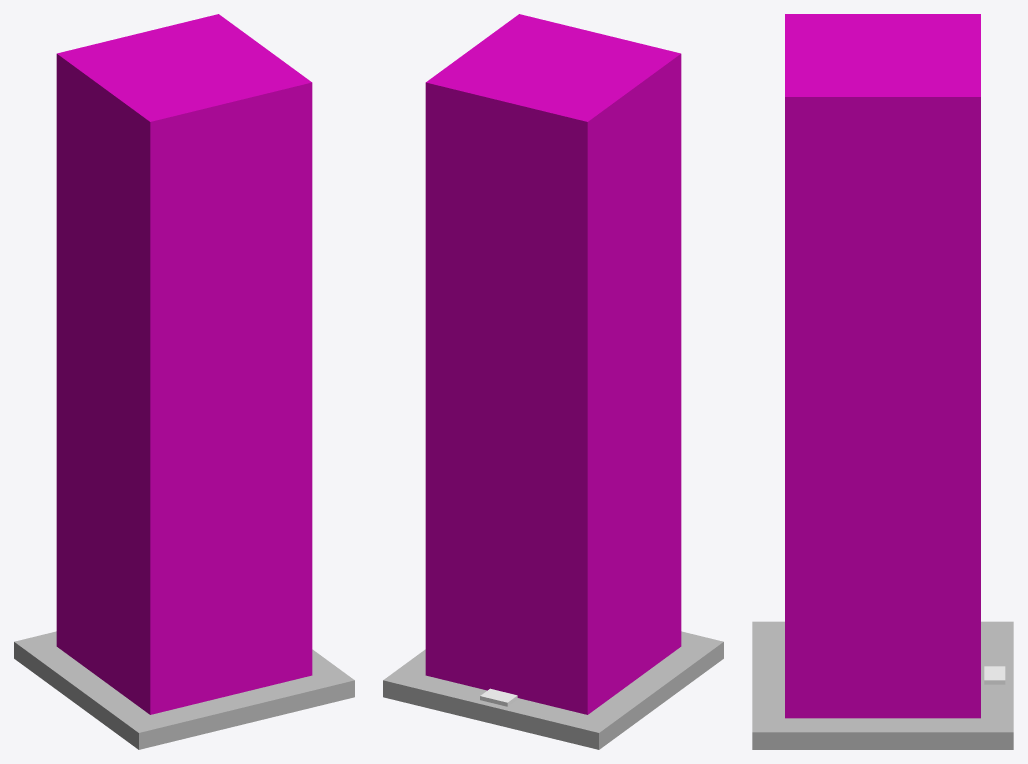
File: building1(3).fbx
3 renders of one model, left to right at view 1: azimuth 30°, elevation 25°; view 2: azimuth 150°, elevation 25°; view 3: azimuth 270°, elevation 25°, orthographic. The views are drawn at different scales.
Parts seen in each view (by area): view 1: Empty_Tile.002, Empty_Tile.001; view 2: Empty_Tile.002, Empty_Tile.001; view 3: Empty_Tile.002, Empty_Tile.001.
Part boxes in pixels (<box>): Empty_Tile.002: <box>56,14,312,714</box>; Empty_Tile.001: <box>14,631,354,749</box>; Empty_Tile.002: <box>425,14,681,714</box>; Empty_Tile.001: <box>383,631,723,749</box>; Empty_Tile.002: <box>785,14,980,718</box>; Empty_Tile.001: <box>752,621,1013,749</box>.
Size of the model in its own units: 800 by 2158 by 800.
